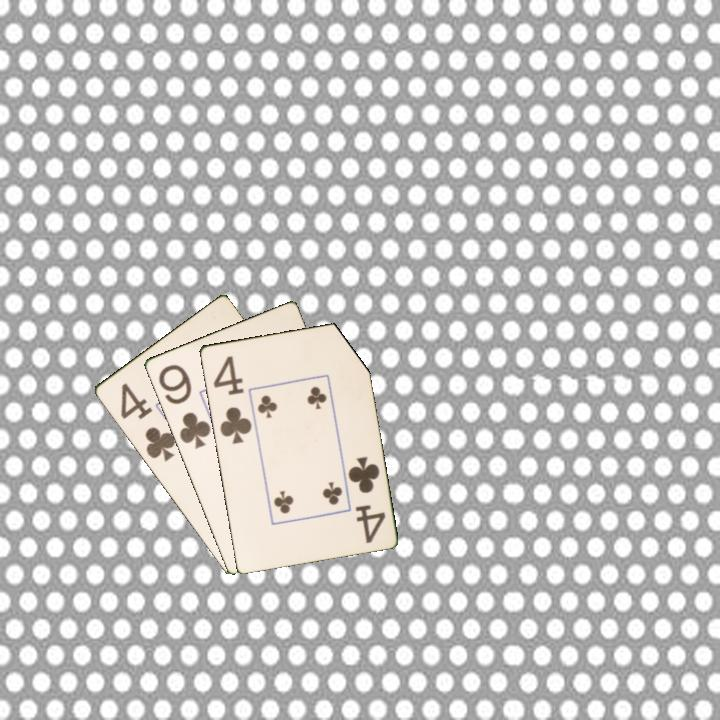4c: (116, 379, 178, 464), (209, 352, 254, 446), (344, 452, 388, 546)
9c: (154, 361, 213, 452)
